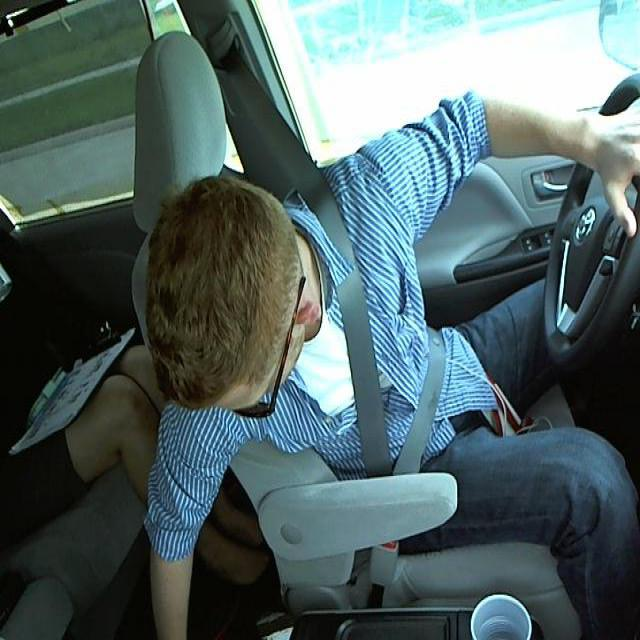seatbelt: (319, 215, 454, 474)
